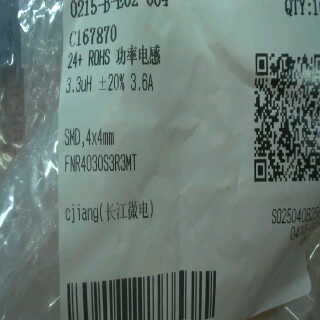3.3uH: (64, 73, 93, 97)
